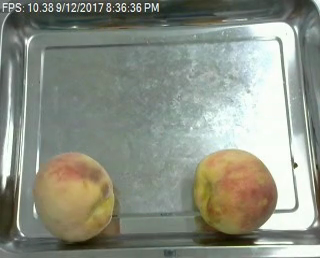Peach: (192, 147, 278, 235), (34, 150, 116, 242)
